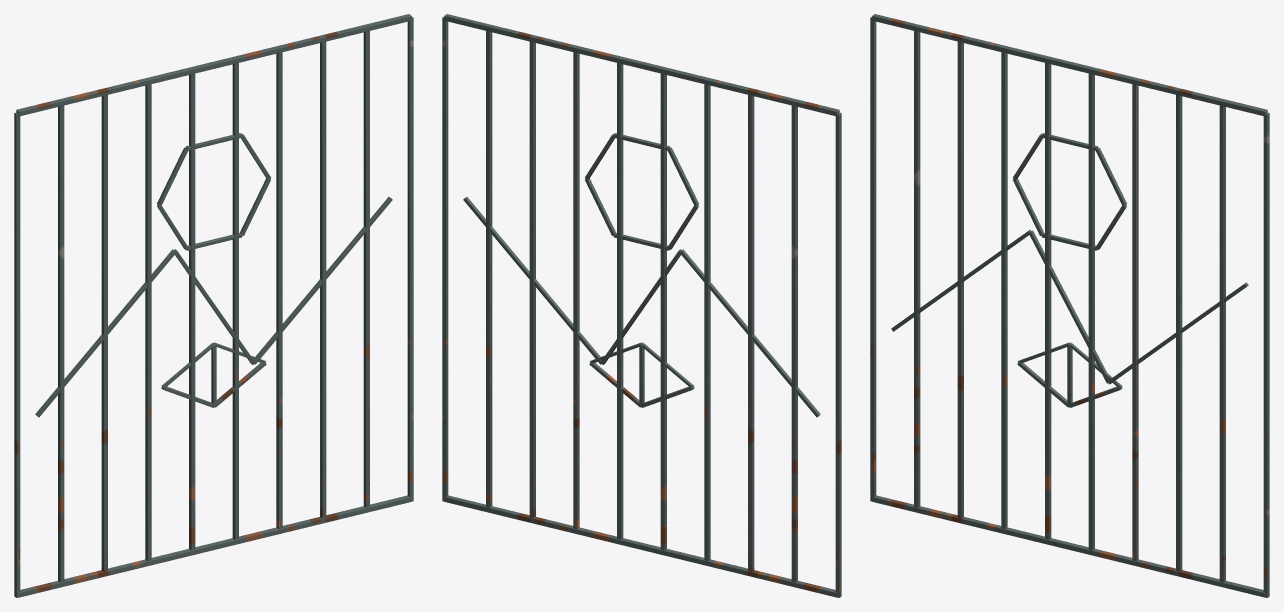
The model's file is SongSatHoa_Khoi.glb.
3 views of the same model, side by side, from view 1: azimuth 30°, elevation 25°; view 2: azimuth 150°, elevation 25°; view 3: azimuth 330°, elevation 25° (orthographic).
Parts seen in each view (by area): view 1: geometry_0; view 2: geometry_0; view 3: geometry_0.
Part boxes in pixels (<box>): geometry_0: <box>14,14,413,597</box>; geometry_0: <box>442,14,841,597</box>; geometry_0: <box>870,14,1269,597</box>.
Bounding box in the file's own units: 1.15 × 1.35 × 0.014.
Materials: 1 (1 with a texture image).
